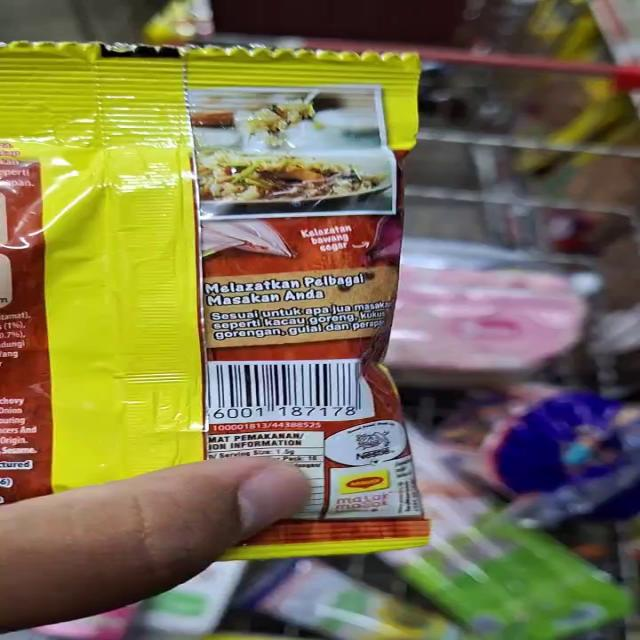Maggi Cukup Rasa: (0, 38, 440, 561)
